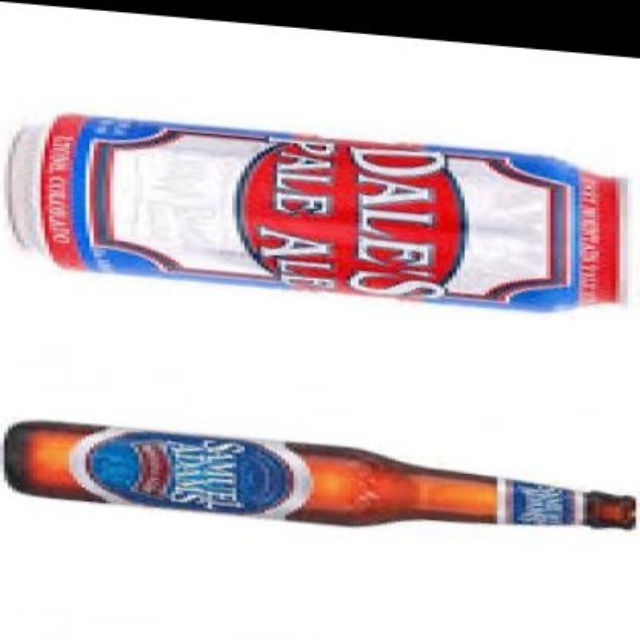trash: (6, 114, 623, 308), (5, 422, 634, 528)
